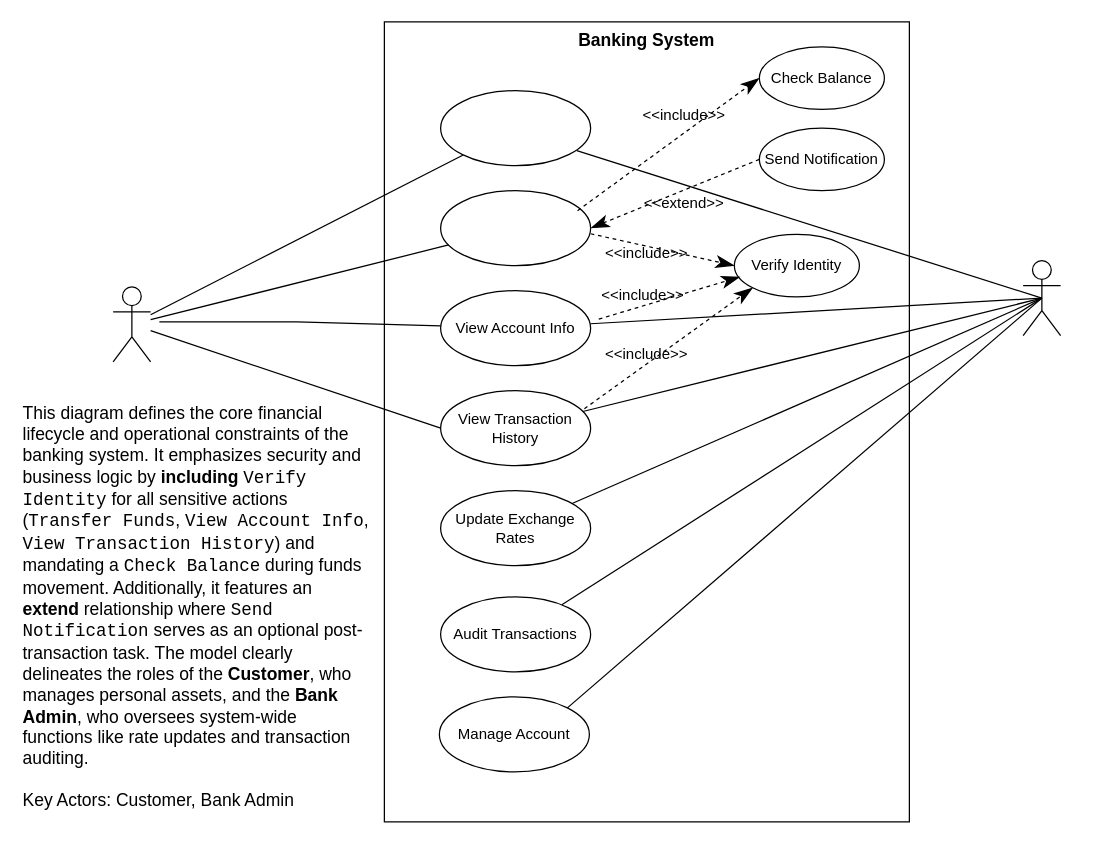
The diagram is 1103 pixels wide and 844 high, and some of its shapes have lost their labels. The shapes that lost their labels are listed below. From the top down, each one's centre as x and y in pixels, then its label:
point (515, 127): Open account
point (515, 227): Transfer Funds
point (1041, 297): Bank Admin
point (131, 324): Customer
